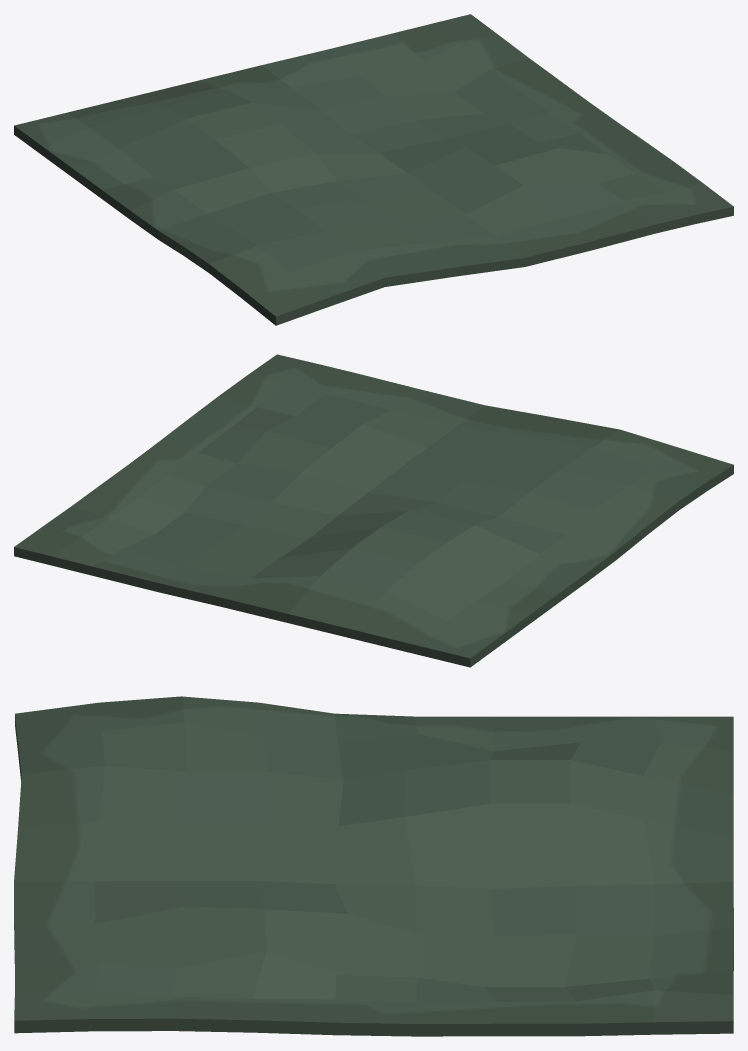
Rendered from golf (1).fbx.
3 views of the same model, one above another, from view 1: azimuth 30°, elevation 25°; view 2: azimuth 150°, elevation 25°; view 3: azimuth 270°, elevation 25° (orthographic). The views are drawn at different scales.
Visible parts, largest first — view 1: Cube; view 2: Cube; view 3: Cube.
Part boxes in pixels (x1,y1,x2,y2): Cube: [14, 14, 733, 325]; Cube: [14, 354, 733, 667]; Cube: [14, 696, 733, 1036].
Bounding box in the file's own units: 1247 × 114 × 1226.
1 material, 1 textured.
